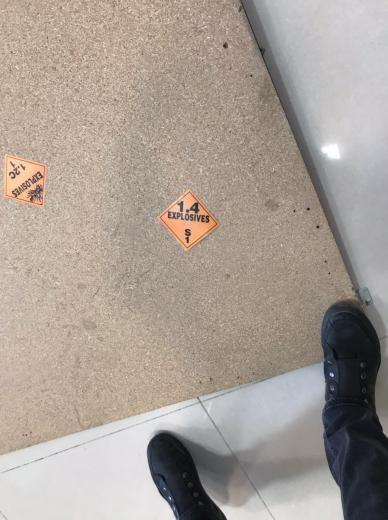explosive: (157, 189, 219, 248), (1, 154, 47, 207)
